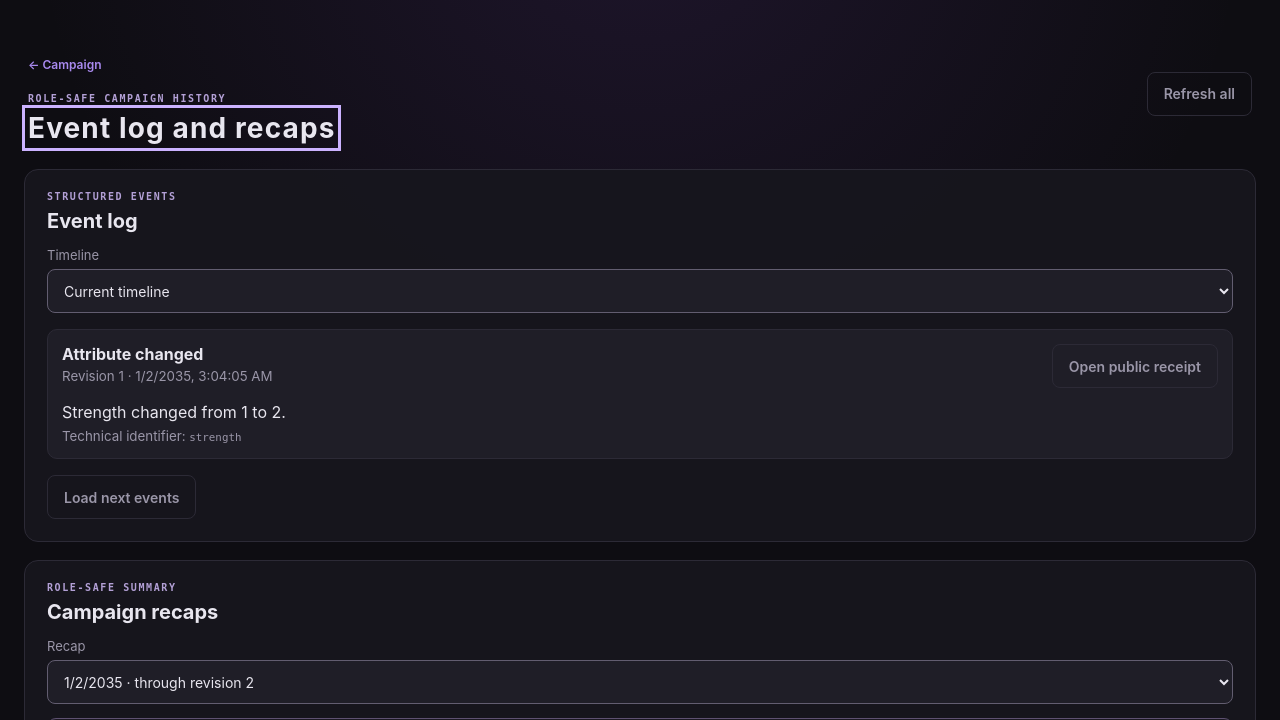
Scenario: campaign history experience › renders the public quest receipt union without treating it as a mechanic event
The width and height of the screenshot is (1280, 720).
Check: the text "Strength changed from 1 to 2." is shown, box [62,402,286,422]
Click the button "Open public receipt" at {"x": 1135, "y": 366}, box [1052,344,1218,388]
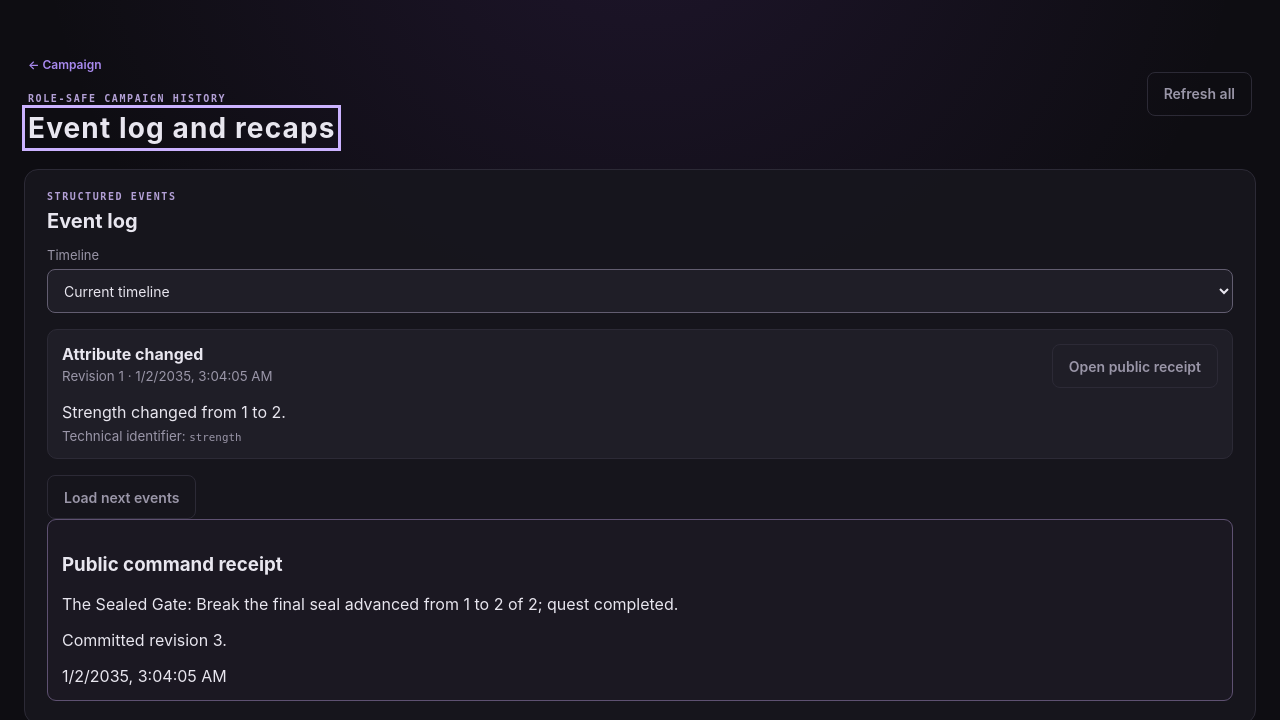
Check: the text "The Sealed Gate: Break the final seal advanced from 1 to 2 of 2; quest completed" is shown, box [62,594,678,614]
